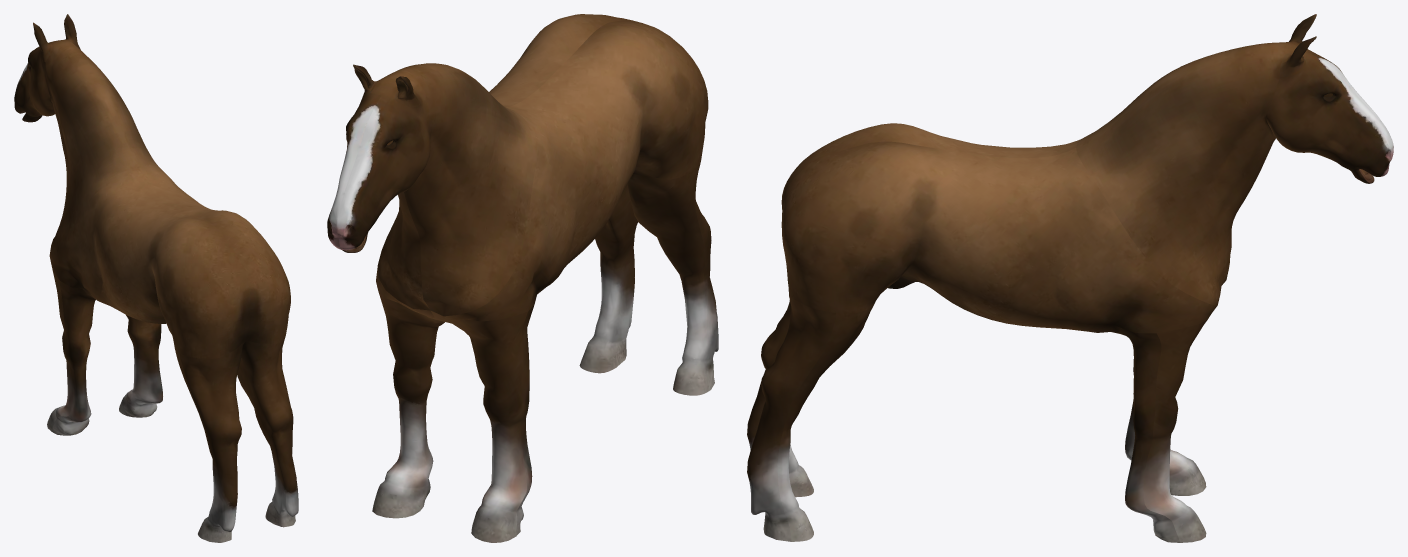
File: horse.glb
3 renders of one model, left to right at view 1: azimuth 30°, elevation 25°; view 2: azimuth 150°, elevation 25°; view 3: azimuth 270°, elevation 25°, orthographic. The views are drawn at different scales.
Visible parts, largest first — view 1: BASE_BODY; view 2: BASE_BODY; view 3: BASE_BODY.
Part boxes in pixels (x1,y1,x2,y2): BASE_BODY: (14,14,298,542); BASE_BODY: (327,14,718,542); BASE_BODY: (747,14,1393,542).
Bounding box in the file's own units: 0.6462 × 2.04 × 2.45.
Materials: 1 (1 with a texture image).
